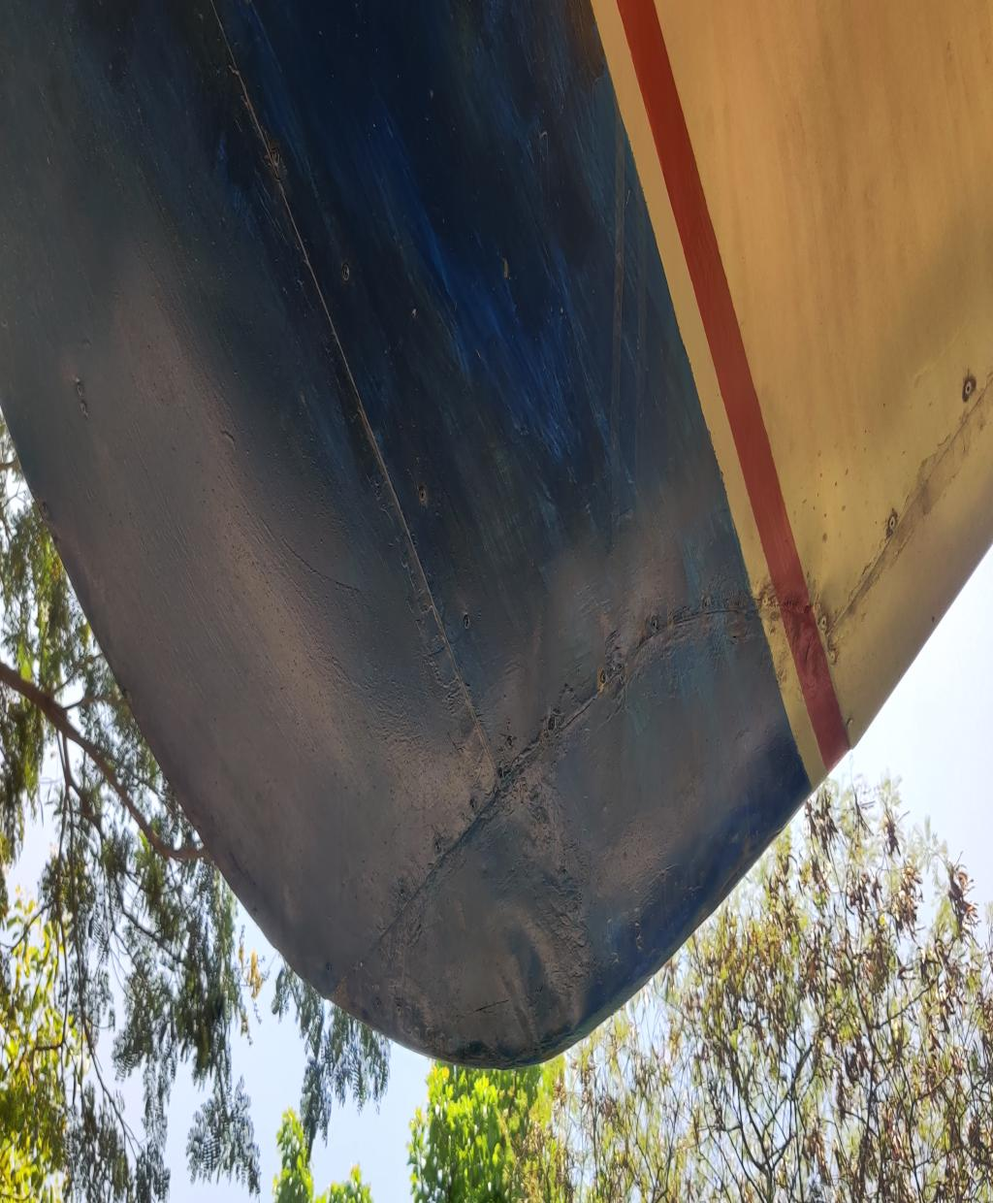dent: (492, 878, 585, 1061), (388, 936, 450, 1040)
